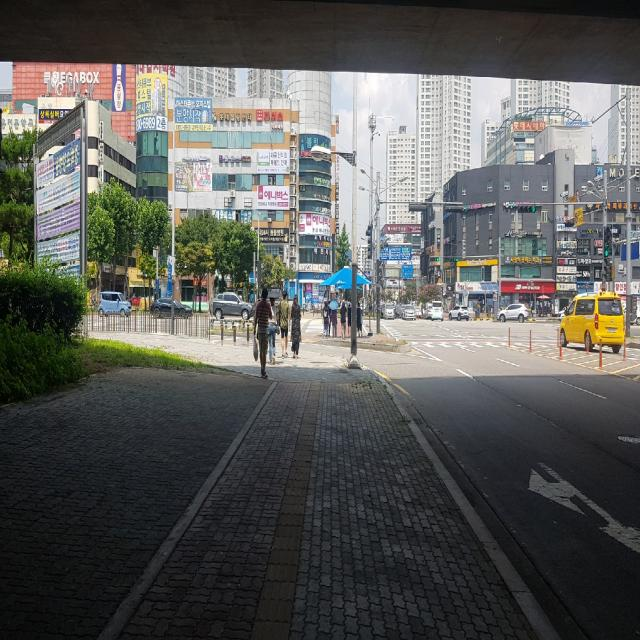횡단보도: (288, 318, 324, 334)
